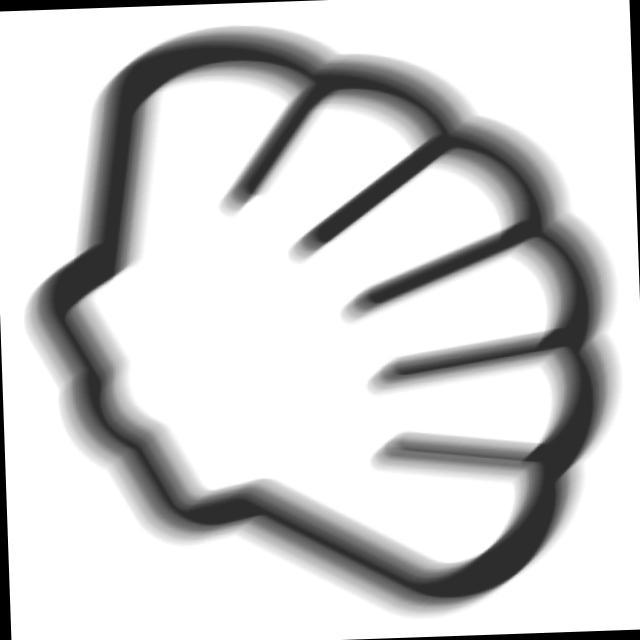shell: (7, 8, 639, 640)
